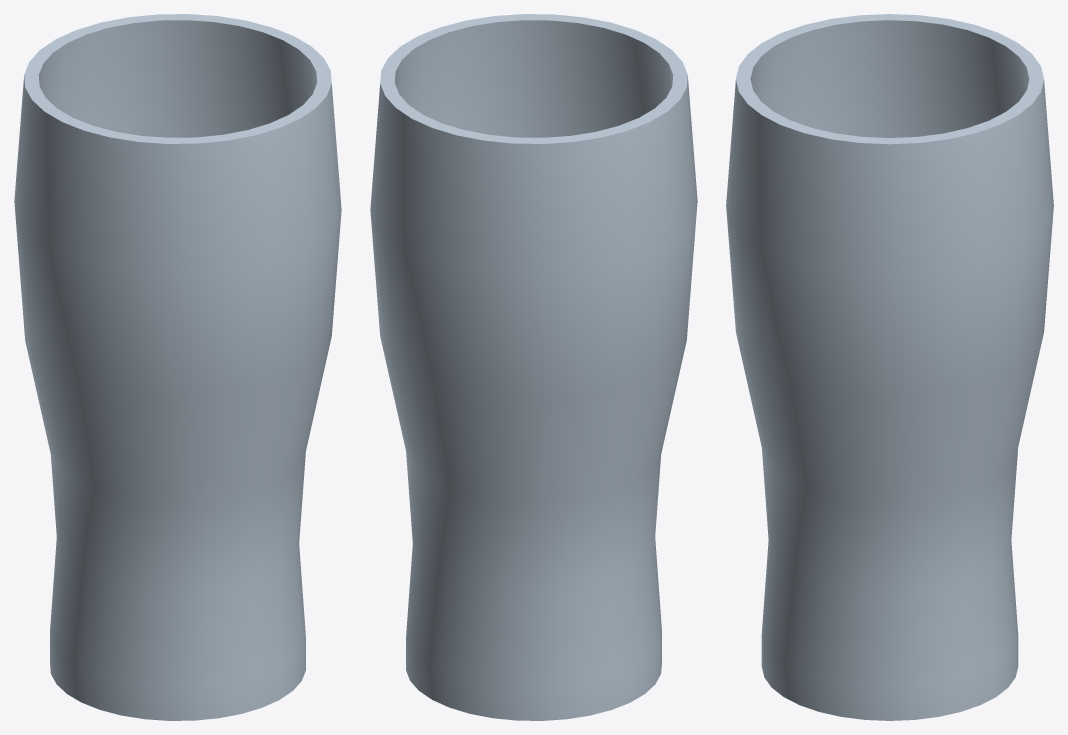
Rendered from SM_PintGlass.fbx.
The picture shows the model from 3 angles, left to right: view 1: azimuth 30°, elevation 25°; view 2: azimuth 150°, elevation 25°; view 3: azimuth 270°, elevation 25°; orthographic projection.
Parts seen in each view (by area): view 1: SM_PintGlass; view 2: SM_PintGlass; view 3: SM_PintGlass.
Boxes of the visible parts, <box> form: SM_PintGlass: <box>14,14,341,720</box>; SM_PintGlass: <box>370,14,697,720</box>; SM_PintGlass: <box>726,14,1053,720</box>.
Size of the model in its own units: 7.6 by 15.03 by 7.6.
